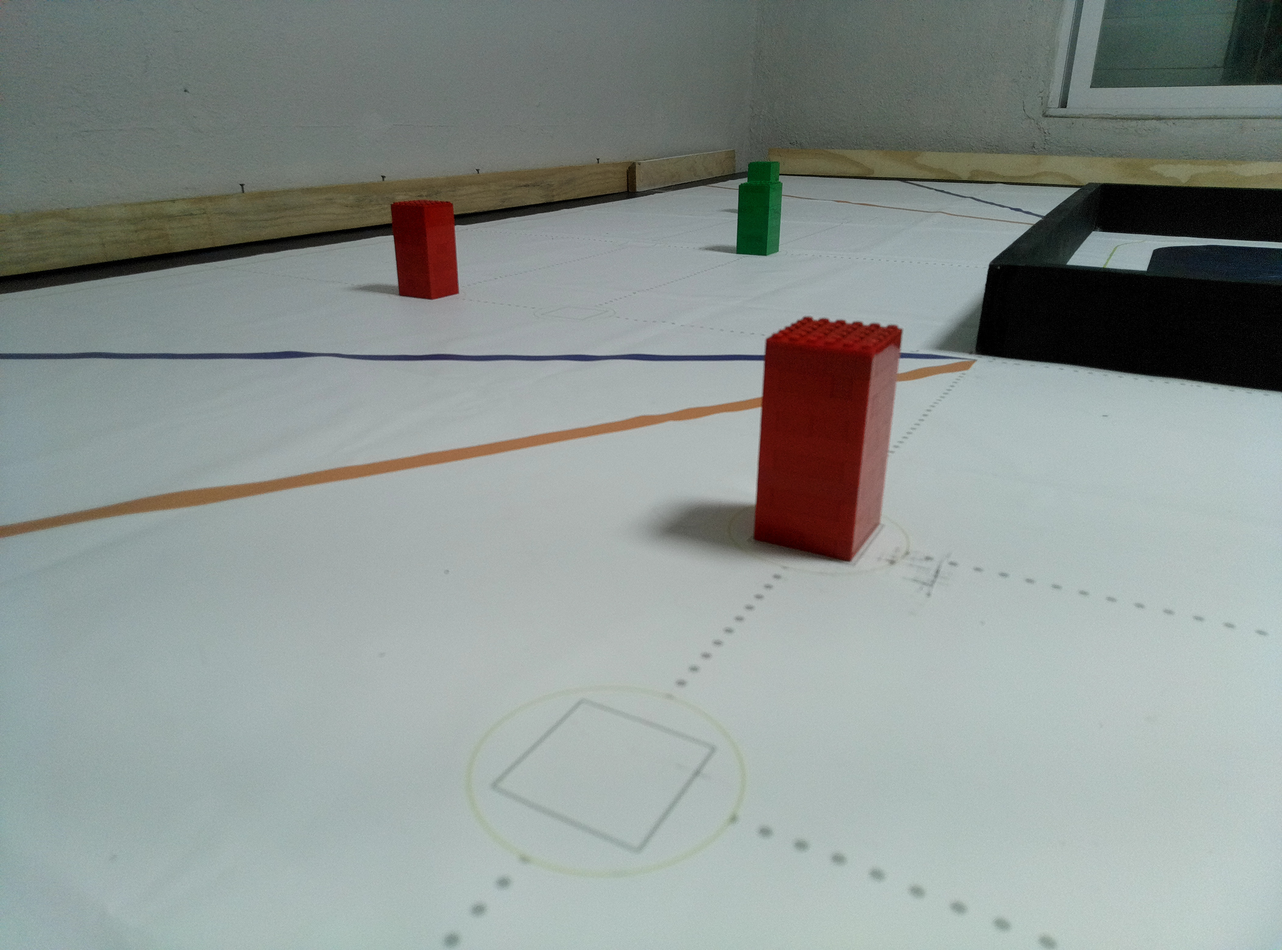greenbox: (736, 181, 782, 255), (748, 161, 781, 181)
redbox: (754, 314, 903, 561), (390, 200, 460, 300)
